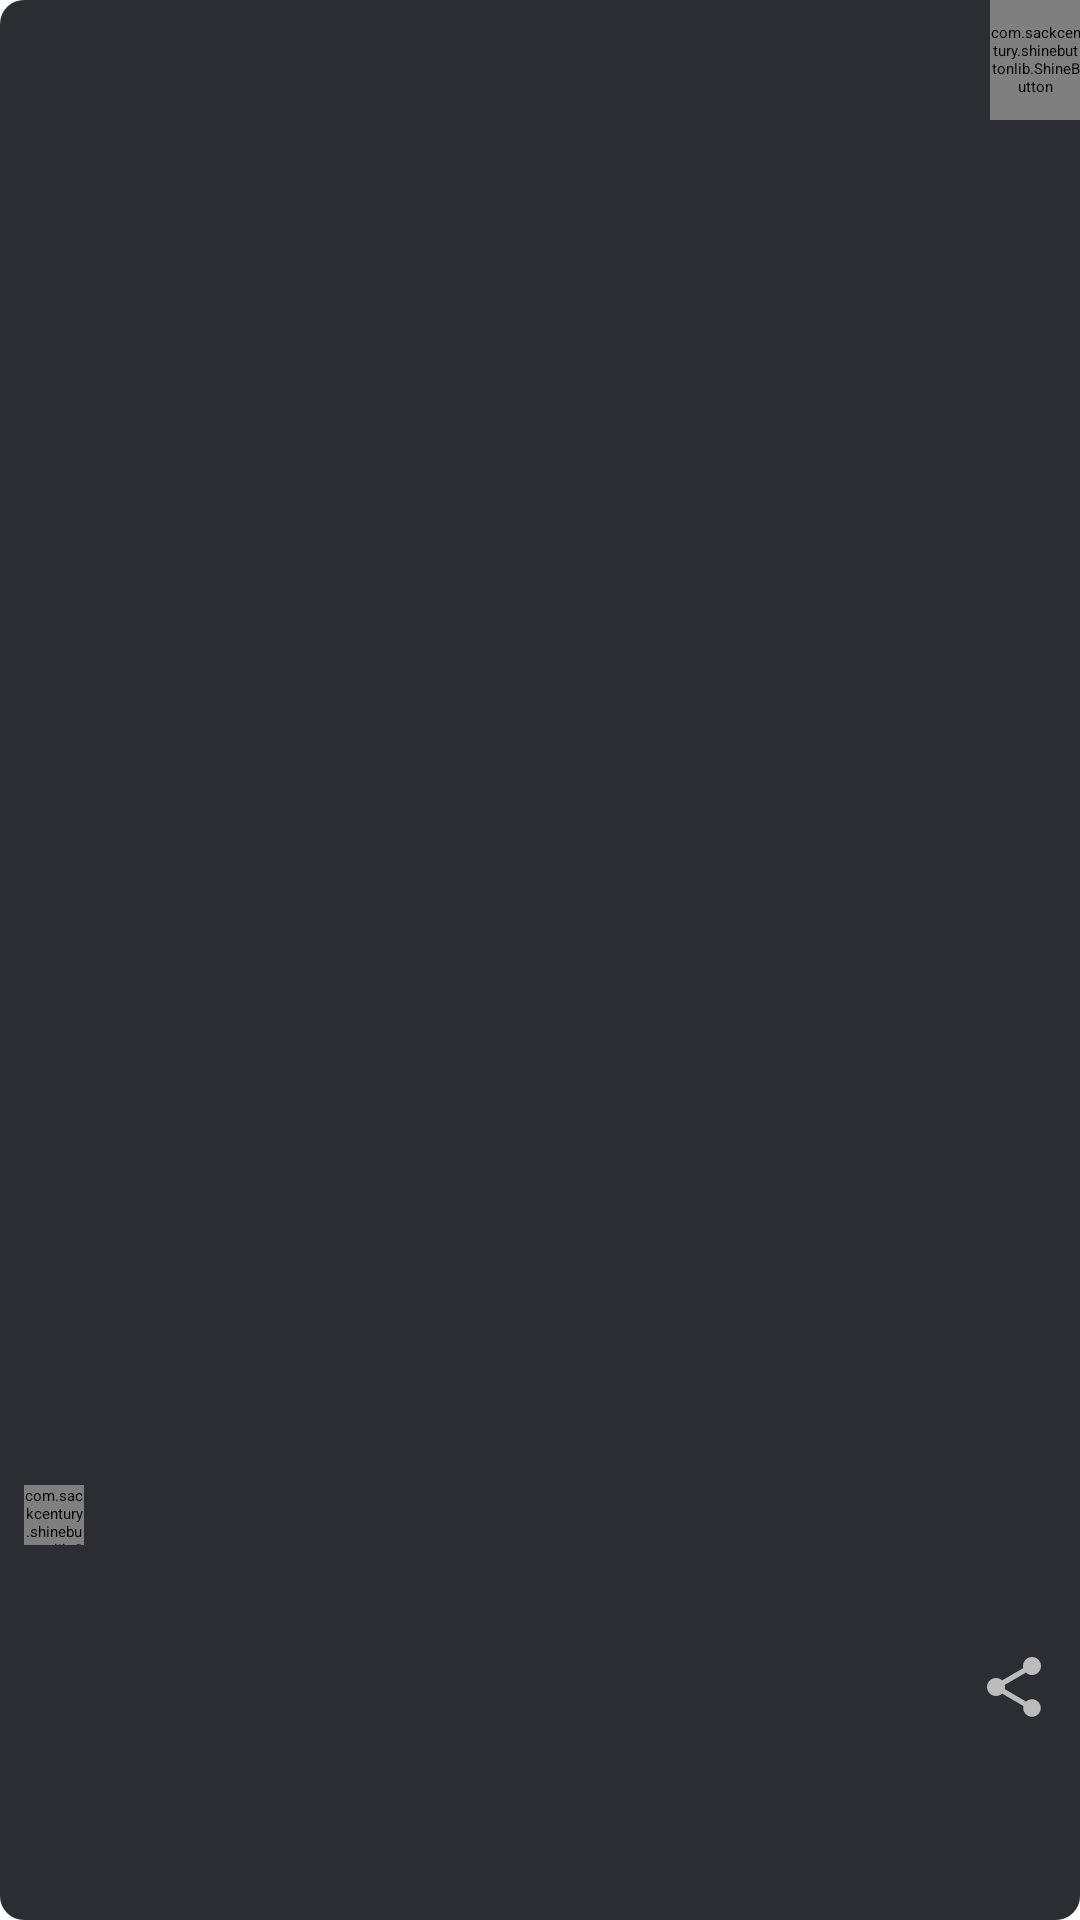

Icons on this 1080 x 1920 Android screen, each with its box as bbox(x1, y1, x2, y2):
share: bbox(987, 1657, 1041, 1717)
